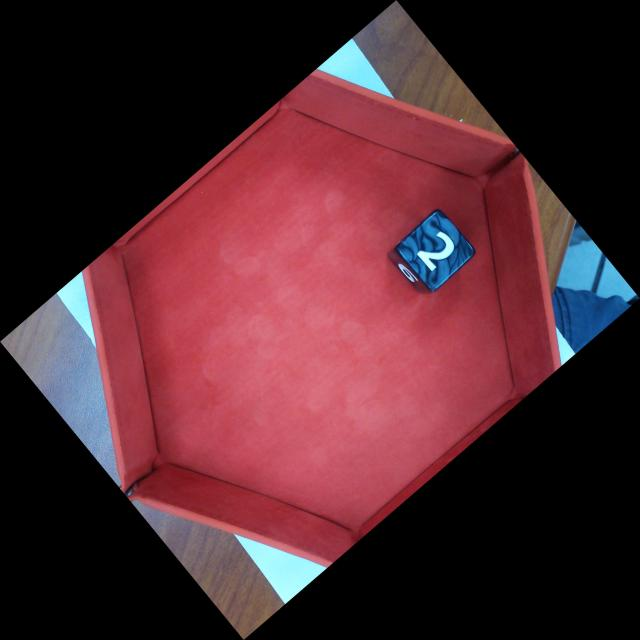dice: (393, 206, 479, 295)
